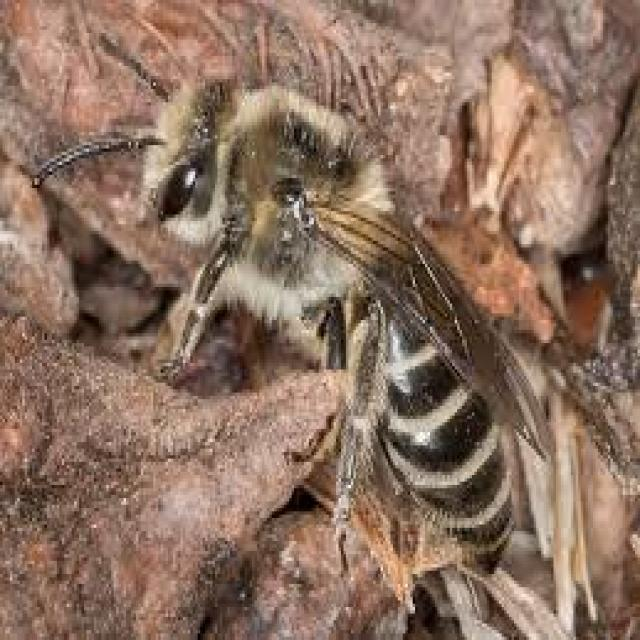Bees: (34, 34, 554, 596)
